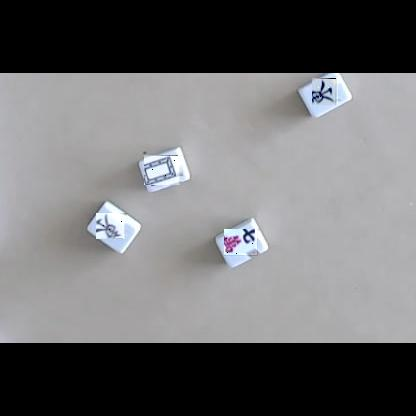1z: (97, 213, 128, 239), (313, 78, 341, 105)
5z: (145, 155, 183, 185)
7m: (225, 230, 261, 259)
